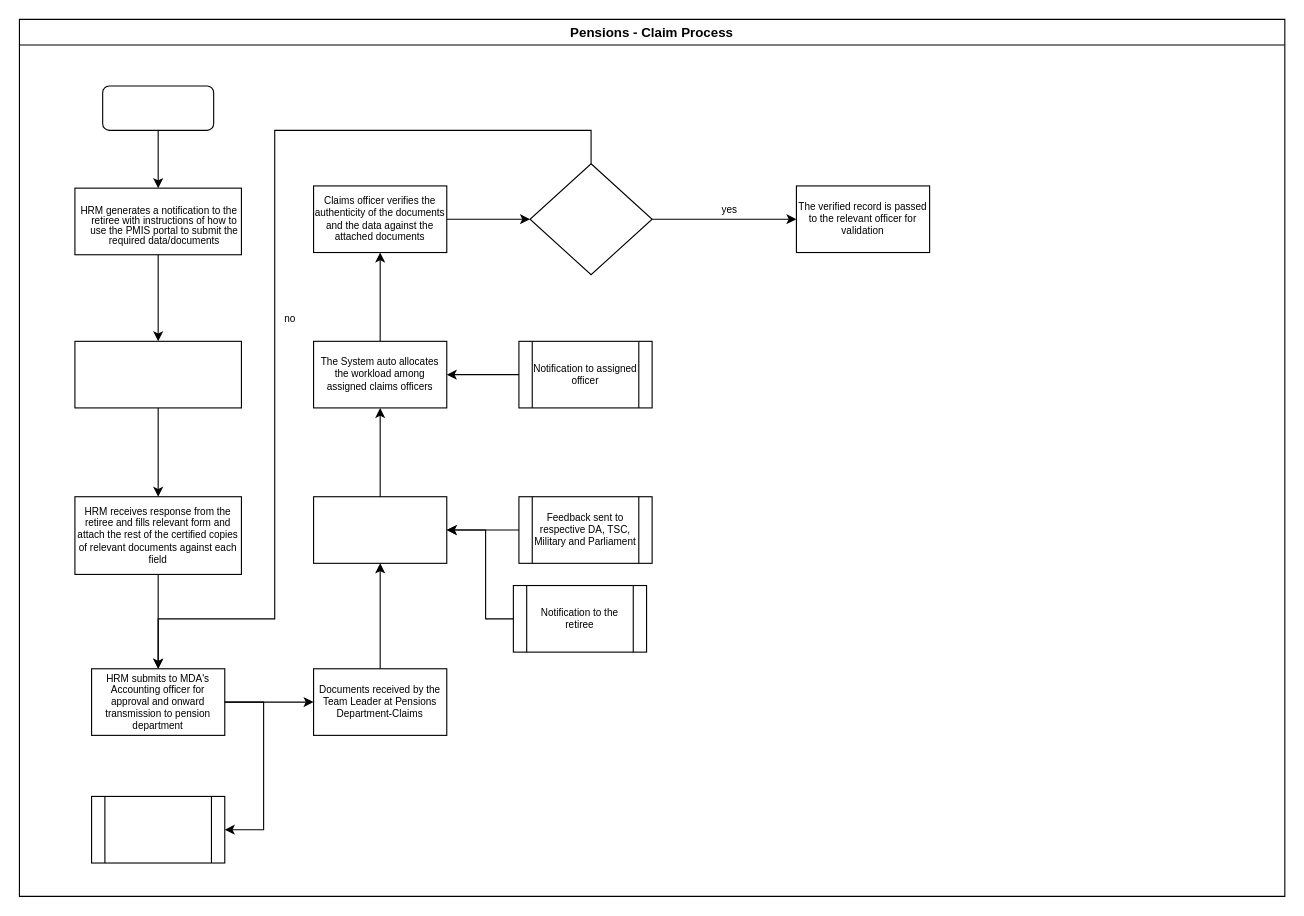
Image size: 1304x916. Some labels were removed from this diagram. The shapes that lost their labels are listed below. From the top down, each one's centre as x and y in pixels, then its label:
At pixel 158 107: "Start".
At pixel 590 219: "Data verification successful?".
At pixel 157 374: "Retiree registers and submits/attaches the relevant documents".
At pixel 379 529: "Pensions Department-Claims lead acknowledges receipt".
At pixel 157 829: "Feedback to retiree".
